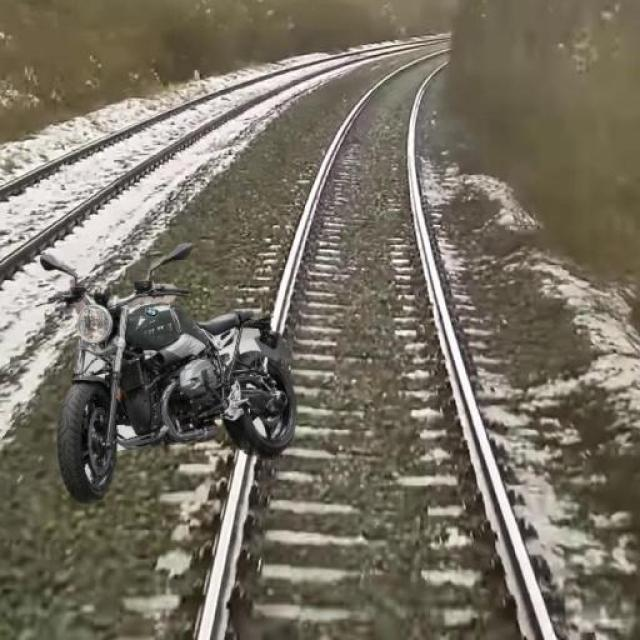vehicle: (35, 243, 304, 500)
